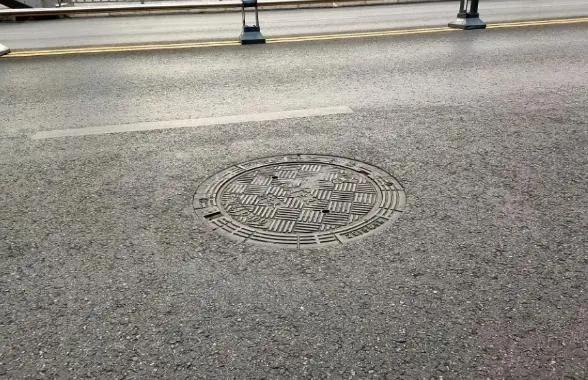wellcover: (207, 155, 414, 240)
